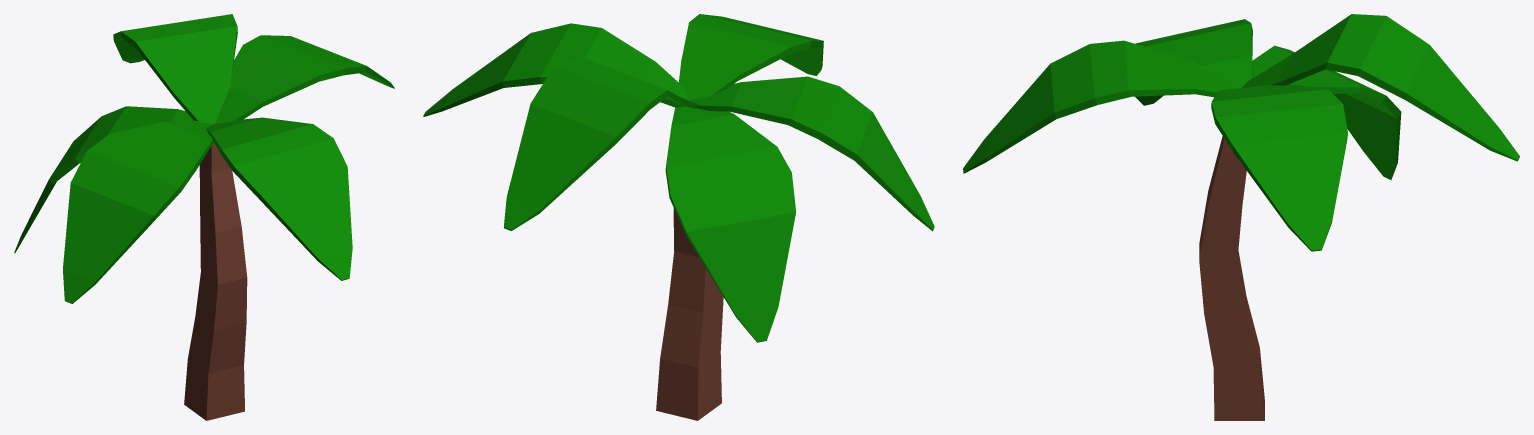
The model's file is palmTree_01.fbx.
The picture shows the model from 3 angles, left to right: view 1: azimuth 30°, elevation 25°; view 2: azimuth 150°, elevation 25°; view 3: azimuth 270°, elevation 25°; orthographic projection. The views are drawn at different scales.
Parts seen in each view (by area): view 1: Cube.001; view 2: Cube.001; view 3: Cube.001.
Part boxes in pixels (x1,y1,x2,y2): Cube.001: (14,14,394,420); Cube.001: (423,14,934,420); Cube.001: (963,14,1519,420).
Size of the model in its own units: 2067 by 1671 by 2211.
